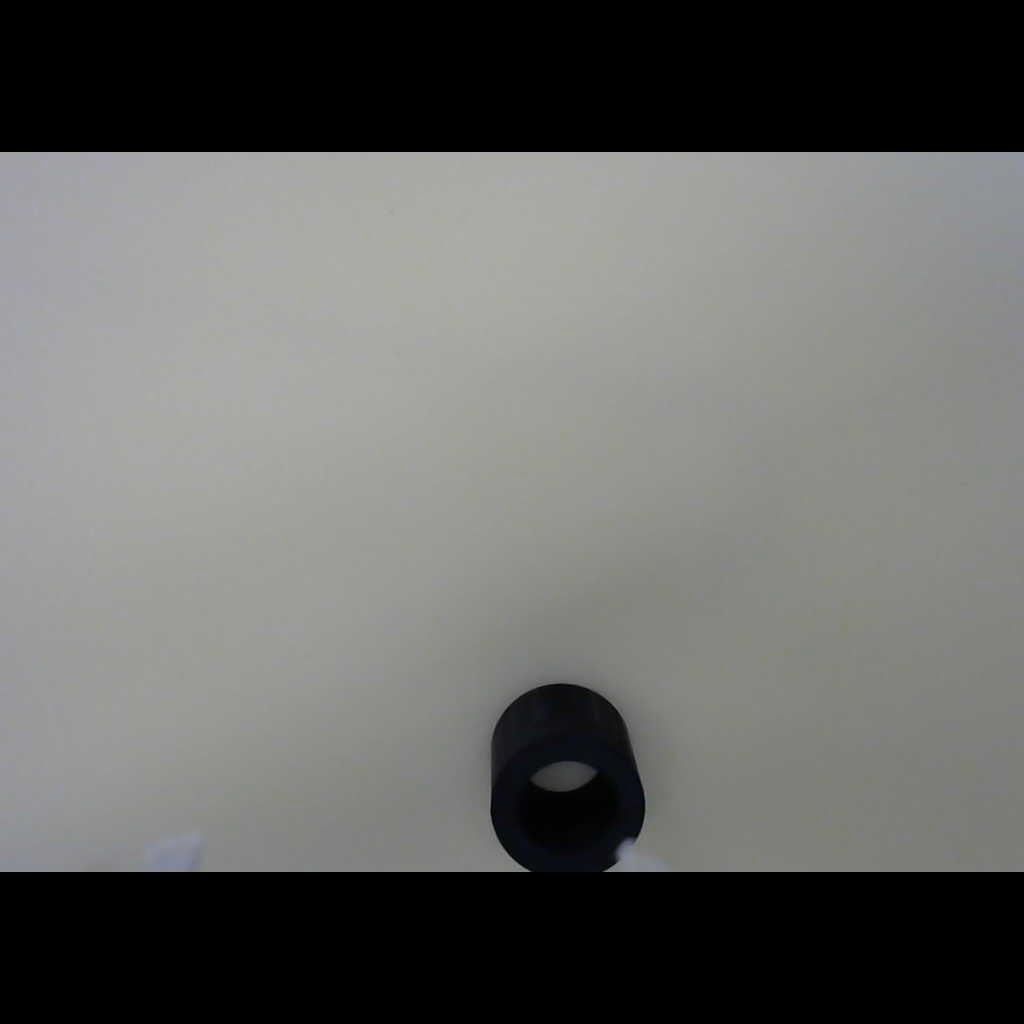ring: (476, 672, 656, 871)
